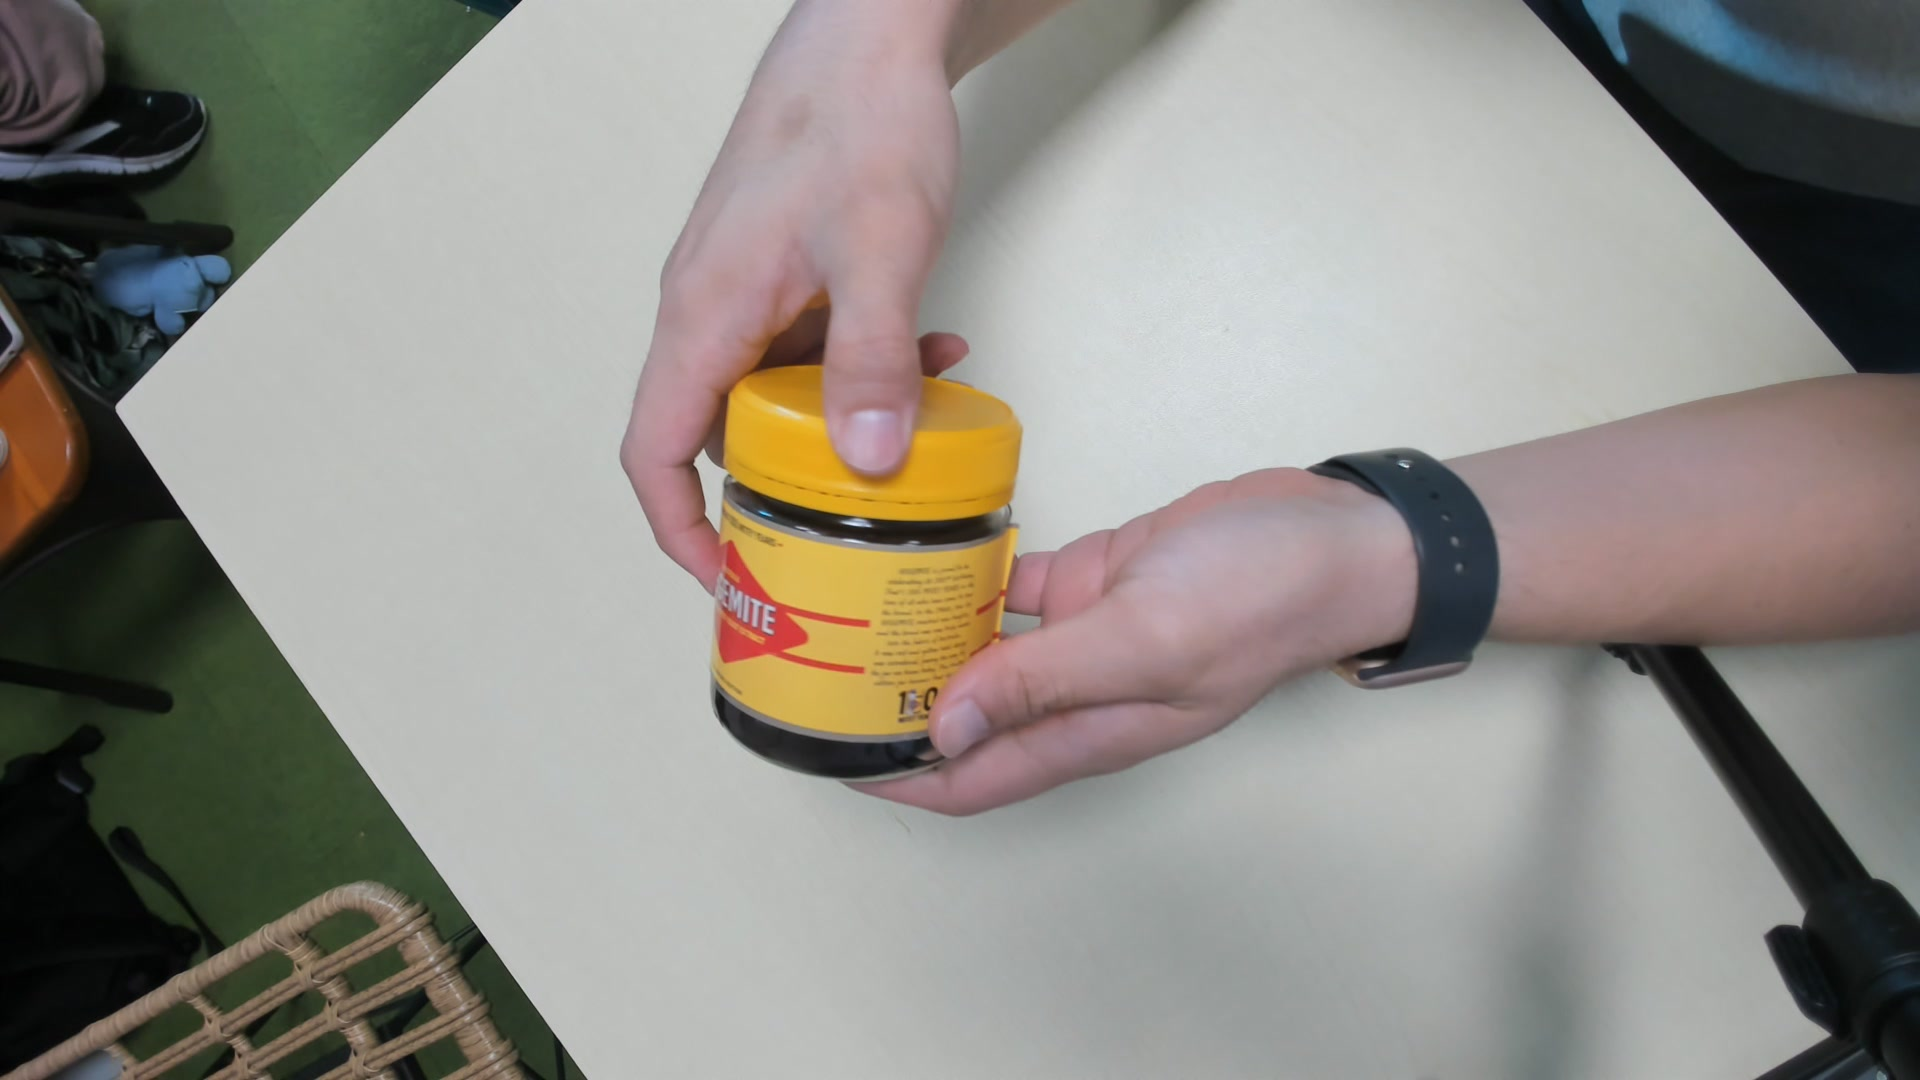OtherSauceDressing_300-399g_Halal_NonHealthy: (712, 367, 1023, 791)
